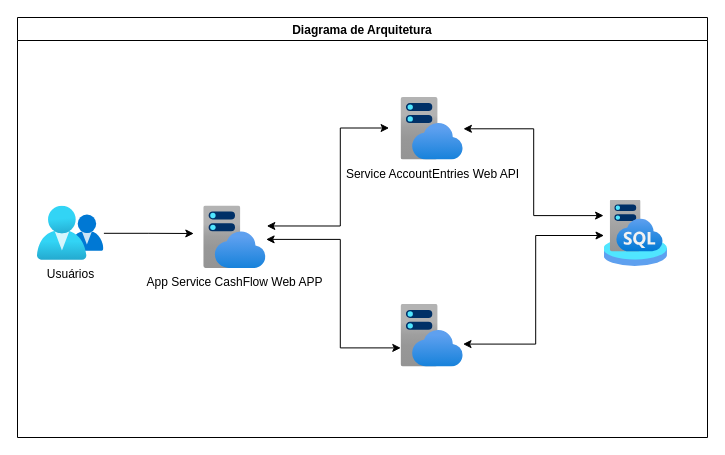
Image size: 725x455. Some labels were removed from this diagram. Each missing label, with the centre of its shape:
App Service Reports Web API: the point at 431,335
Azure SQL DataBase: the point at 635,233
